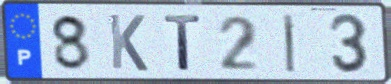2: (217, 14, 260, 72)
3: (328, 12, 373, 76)
8: (49, 12, 95, 72)
I: (281, 12, 298, 75)
K: (106, 12, 150, 73)
T: (161, 13, 204, 73)
